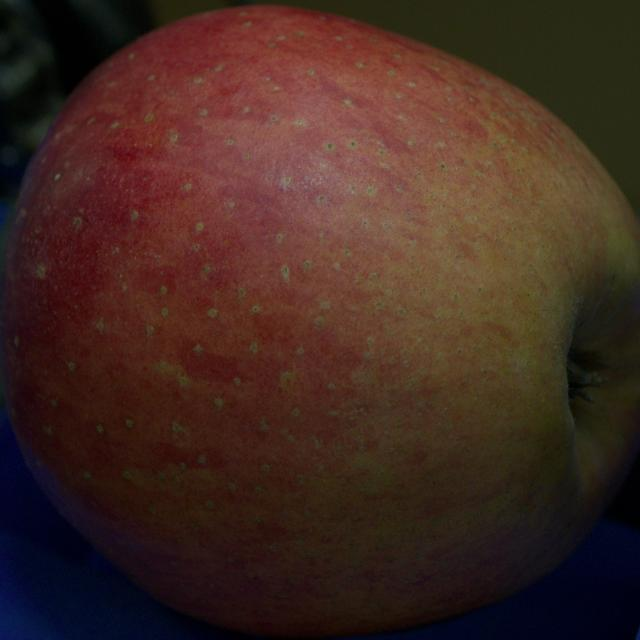apple: (0, 6, 639, 638)
